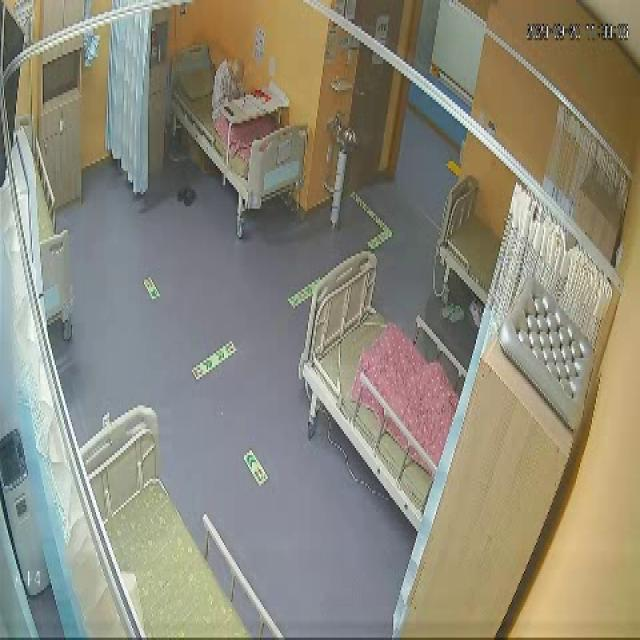bed: (78, 409, 283, 640), (302, 253, 458, 528), (164, 42, 309, 210), (438, 176, 502, 306)
patient: (210, 49, 250, 123)
sit: (212, 51, 248, 125)
